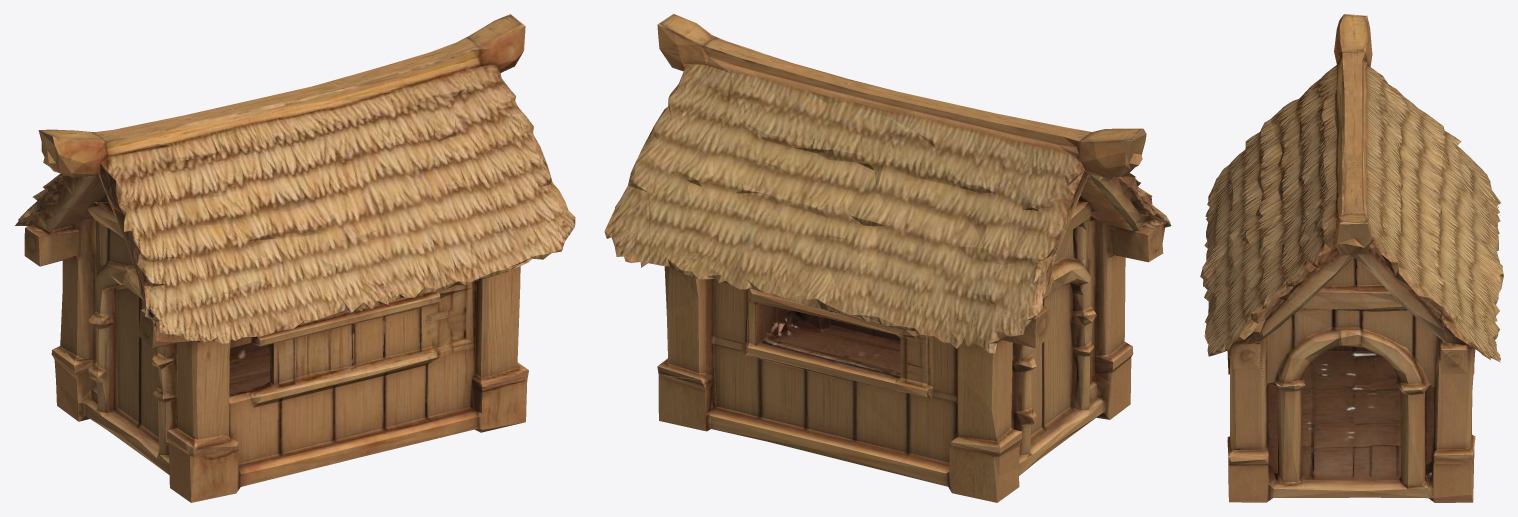
File: shed_thatch_small_lod0.glb
3 views of the same model, side by side, from view 1: azimuth 30°, elevation 25°; view 2: azimuth 150°, elevation 25°; view 3: azimuth 270°, elevation 25° (orthographic). The views are drawn at different scales.
Parts seen in each view (by area): view 1: shed_thatch_small_lod0; view 2: shed_thatch_small_lod0; view 3: shed_thatch_small_lod0.
Part boxes in pixels (x1,y1,x2,y2): shed_thatch_small_lod0: (15, 14, 575, 502); shed_thatch_small_lod0: (604, 14, 1171, 502); shed_thatch_small_lod0: (1200, 14, 1503, 502).
Bounding box in the file's own units: 2.5 × 1.71 × 1.53.
Materials: 1 (1 with a texture image).
